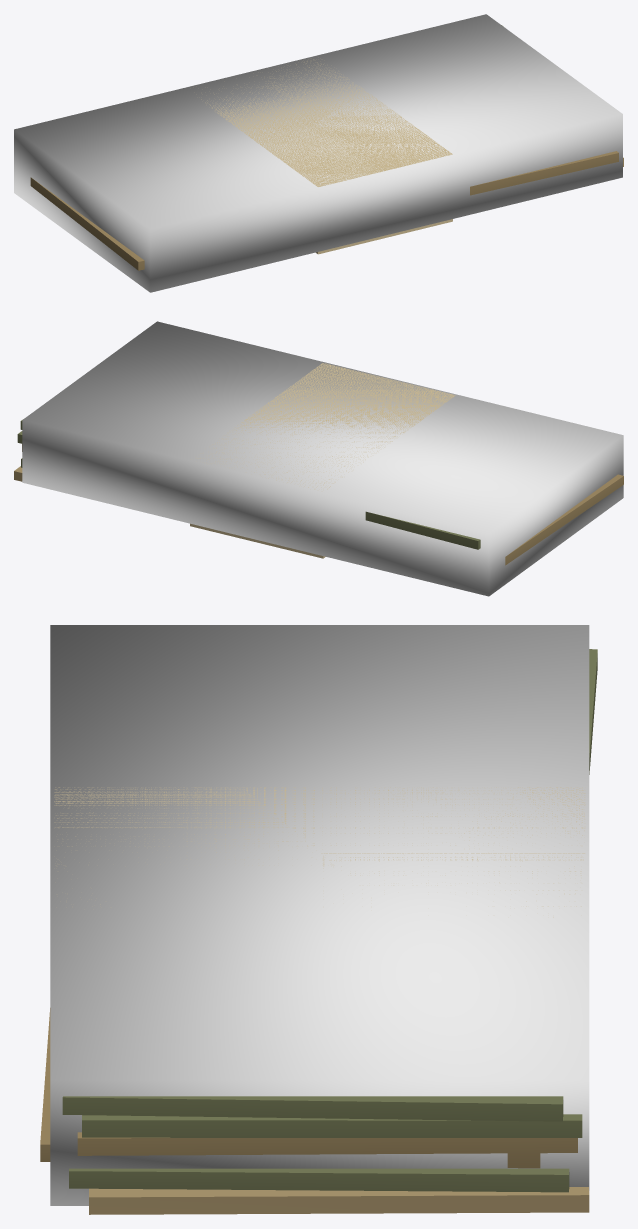
Rendered from billetes.glb.
3 renders of one model, top to bottom at view 1: azimuth 30°, elevation 25°; view 2: azimuth 150°, elevation 25°; view 3: azimuth 270°, elevation 25°, orthographic. The views are drawn at different scales.
Visible parts, largest first — view 1: billetes-colcaja, faja, billetes; view 2: billetes-colcaja, faja, billetes; view 3: billetes-colcaja, billetes, faja.
Boxes of the visible parts, left/top/right/bottom form: billetes-colcaja: left=14, top=14, right=622, bottom=292; faja: left=201, top=59, right=452, bottom=254; billetes: left=30, top=25, right=623, bottom=270; billetes-colcaja: left=22, top=321, right=623, bottom=596; faja: left=190, top=363, right=455, bottom=558; billetes: left=14, top=420, right=623, bottom=565; billetes-colcaja: left=50, top=625, right=589, bottom=1205; billetes: left=40, top=649, right=597, bottom=1214; faja: left=54, top=787, right=585, bottom=917.
Size of the model in its own units: 0.145 by 0.019 by 0.0725.
